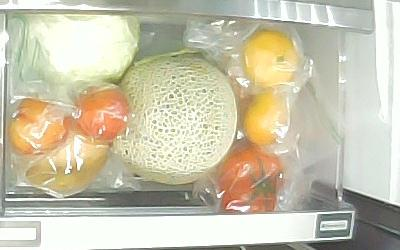cabbage: (16, 14, 141, 88)
melon: (112, 49, 238, 185)
pear_vinyl: (18, 133, 110, 197)
prune_vinyl: (8, 97, 71, 157), (72, 86, 129, 142)
tangerine_vinyl: (241, 29, 301, 89), (242, 91, 288, 145)
tomato_vinyl: (214, 147, 285, 212)
